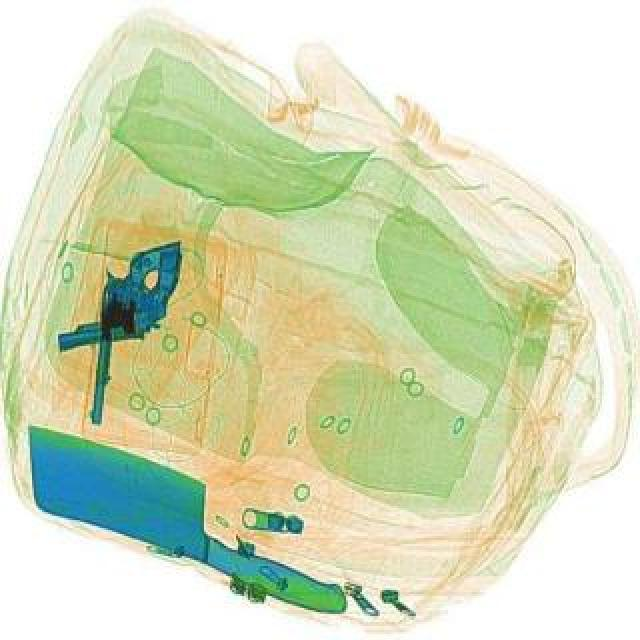gun: (88, 232, 184, 426), (40, 244, 200, 352)
knife: (0, 418, 372, 614)
